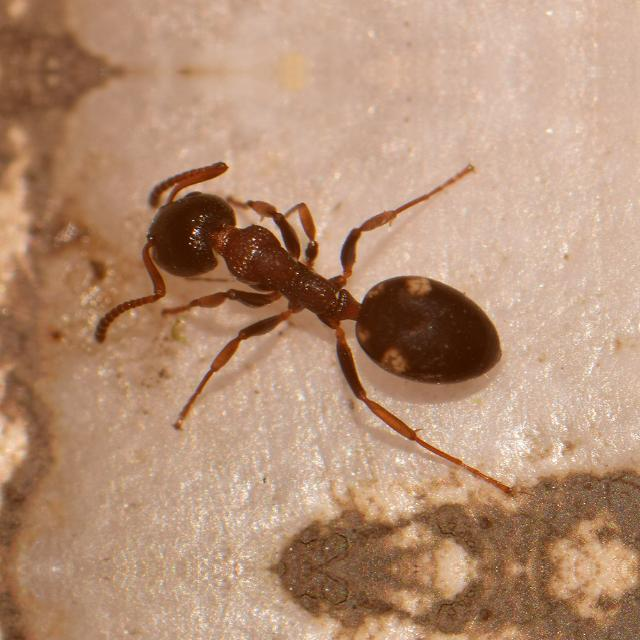Dolichoderus: (86, 133, 554, 434)
